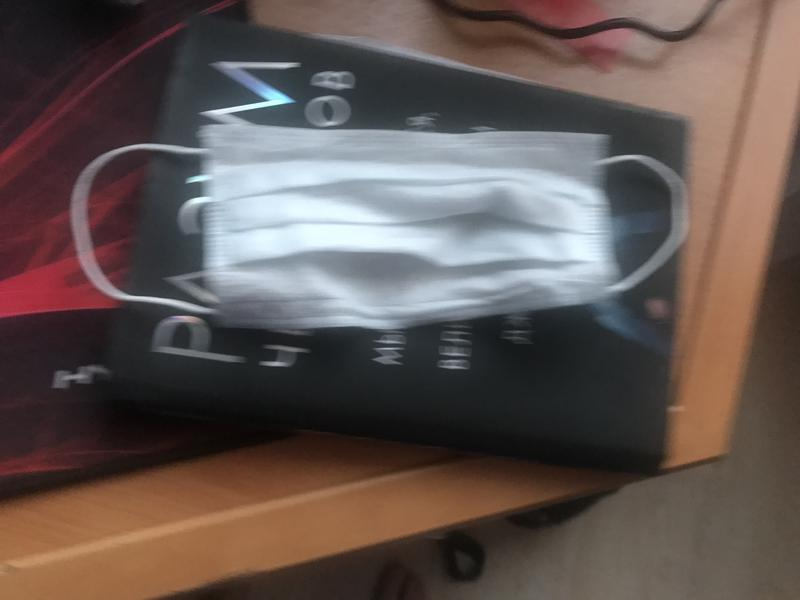medical_mask: (70, 143, 687, 324)
